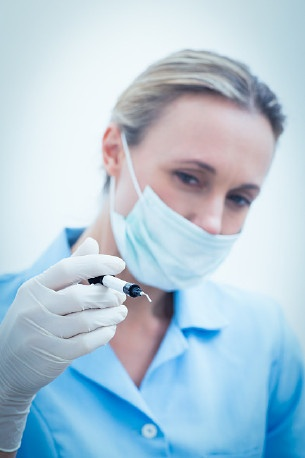Mask: (120, 147, 264, 290)
